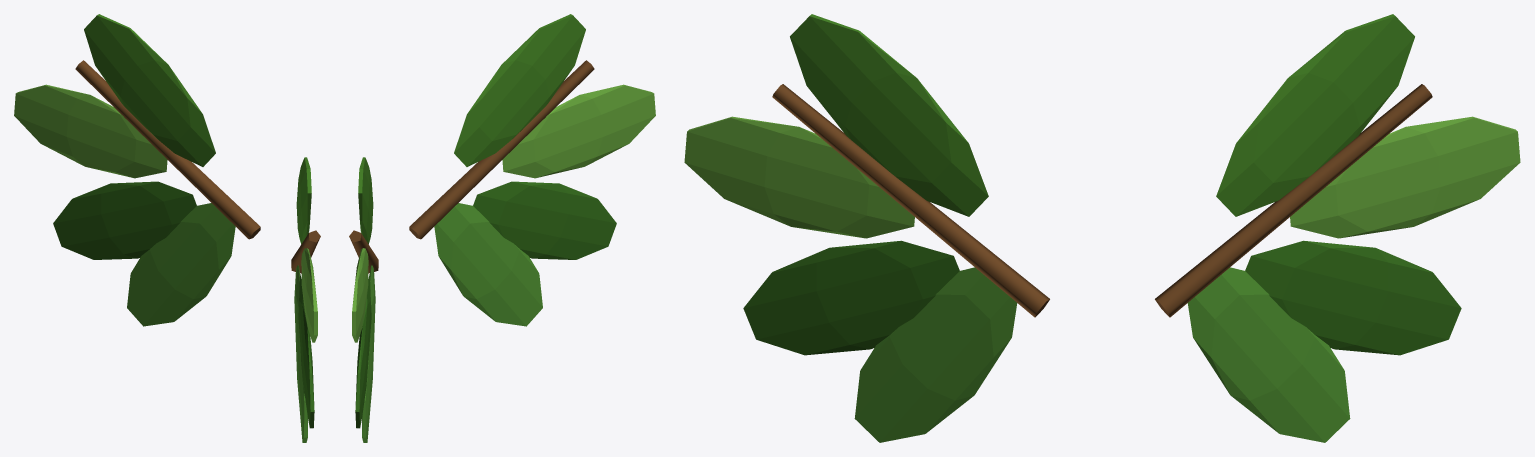
Rendered from back_mosswood_wings.glb.
The picture shows the model from 3 angles, left to right: view 1: azimuth 30°, elevation 25°; view 2: azimuth 150°, elevation 25°; view 3: azimuth 270°, elevation 25°; orthographic projection. The views are drawn at different scales.
Parts seen in each view (by area): view 1: Wing_L, Wing_R; view 2: Wing_R, Wing_L; view 3: Wing_L, Wing_R.
Part boxes in pixels (x1,y1,x2,y2): Wing_L: (14, 14, 260, 326); Wing_R: (291, 157, 320, 442); Wing_R: (409, 14, 655, 326); Wing_L: (349, 157, 378, 442); Wing_L: (1155, 14, 1520, 442); Wing_R: (684, 14, 1049, 442).
Size of the model in its own units: 0.3175 by 0.7515 by 1.38.
